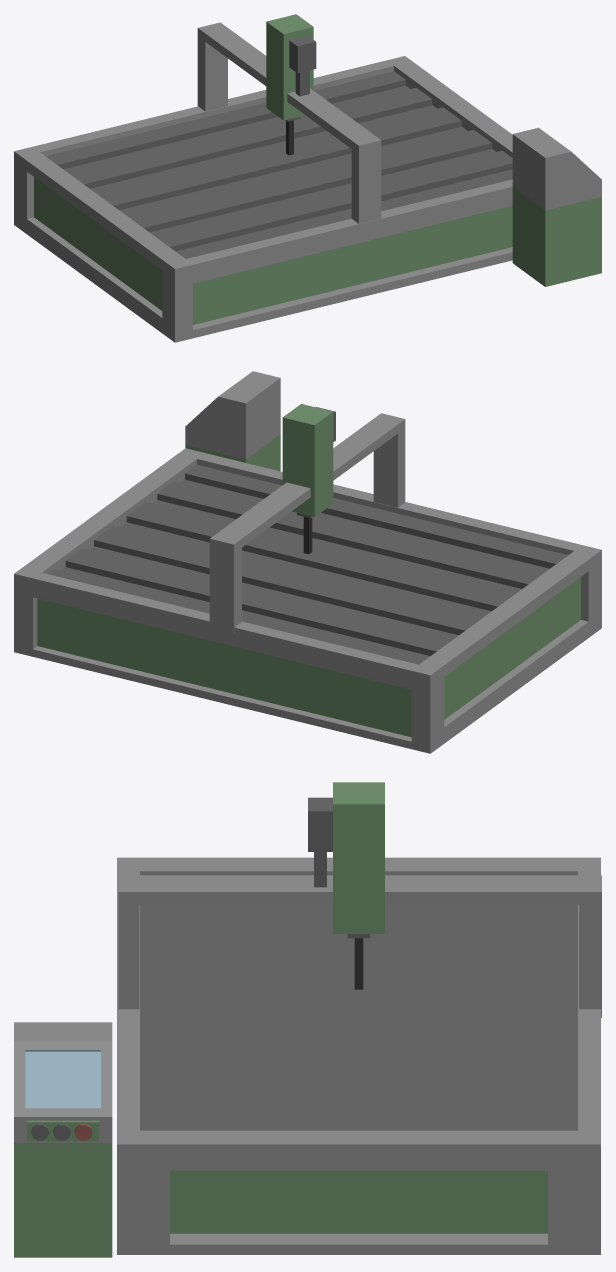
The model's file is millimg 2.gltf.
The picture shows the model from 3 angles, top to bottom: view 1: azimuth 30°, elevation 25°; view 2: azimuth 150°, elevation 25°; view 3: azimuth 270°, elevation 25°; orthographic projection. The views are drawn at different scales.
Visible parts, largest first — view 1: Cylinder, Cube.001, Cube.003; view 2: Cylinder, Cube.001, Cube.003; view 3: Cylinder, Cube.001, Cube.003.
Boxes of the visible parts, x1=… form: Cylinder: x1=14, y1=56, x2=601, y2=342; Cube.001: x1=197, y1=22, x2=381, y2=223; Cube.003: x1=266, y1=14, x2=316, y2=155; Cylinder: x1=14, y1=371, x2=601, y2=753; Cube.001: x1=209, y1=413, x2=405, y2=633; Cube.003: x1=282, y1=404, x2=335, y2=554; Cylinder: x1=14, y1=857, x2=600, y2=1257; Cube.001: x1=118, y1=875, x2=601, y2=1017; Cube.003: x1=308, y1=782, x2=384, y2=989.
Bounding box in the file's own units: 7.85 × 4.03 × 6.72.
